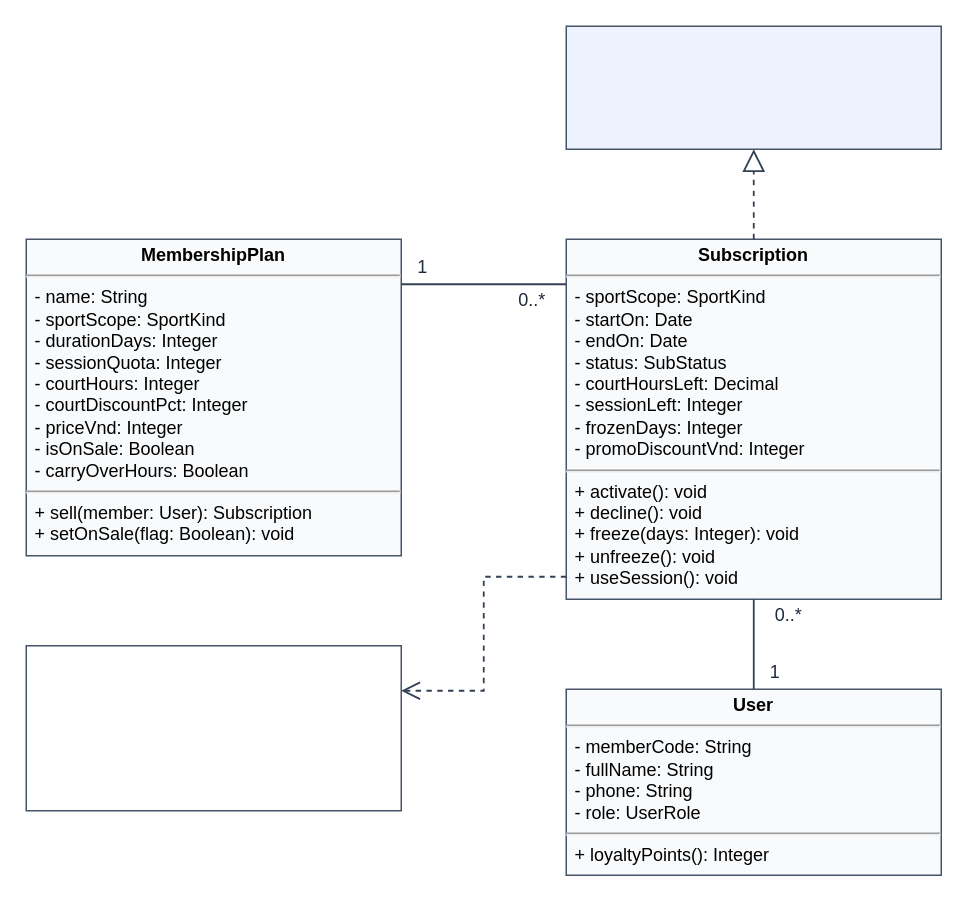
Image size: 968x902. Some labels were removed from this diagram. Here are the shapes that lost their labels. From the top down, the centre of each, then its label:
At (x=753, y=87): "«interface» Payable + amountDue(): Integer + settle(payment: Payment): void".
At (x=213, y=727): "«enumeration» SubStatus pending active expired frozen".
